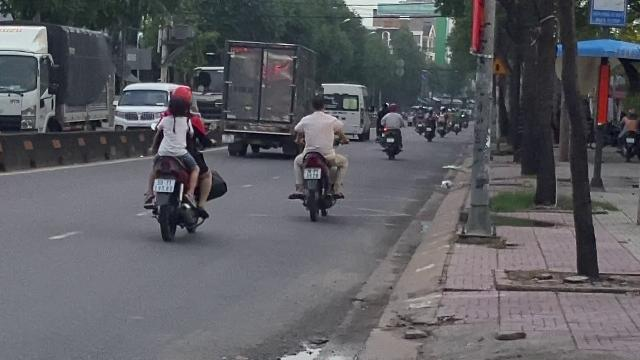helmet: (172, 86, 195, 106)
licenseplate: (154, 178, 174, 192), (304, 168, 320, 178)
motorcyclist: (140, 84, 216, 240), (287, 93, 347, 221)
nohelmet: (166, 94, 188, 126), (308, 93, 326, 112)
